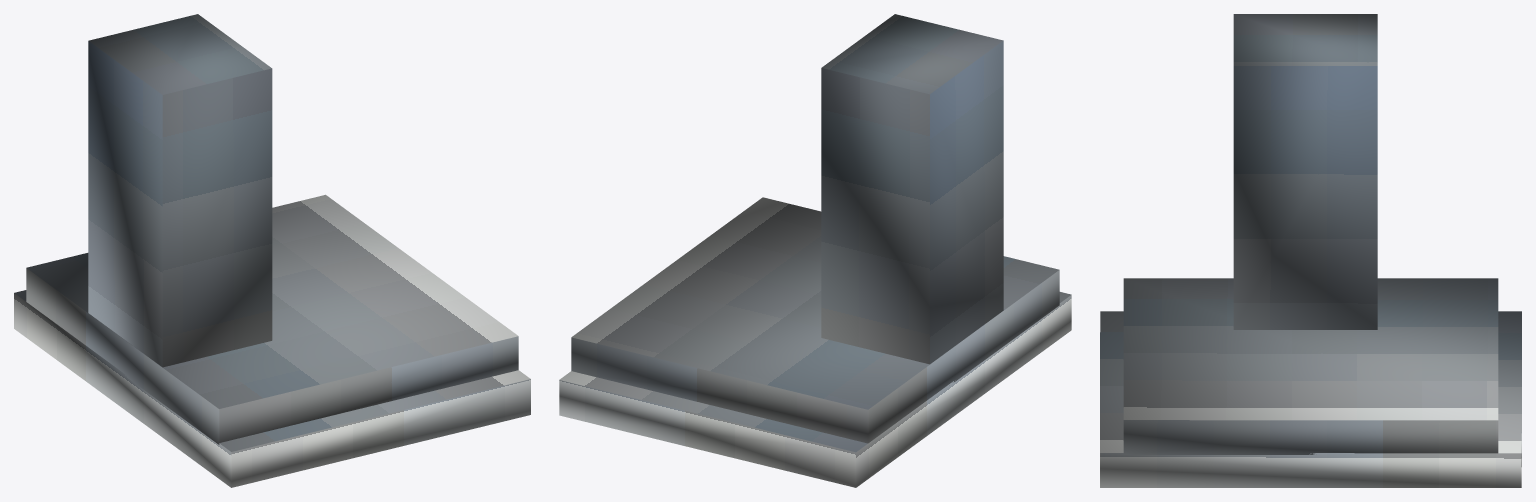
The picture shows the model from 3 angles, left to right: view 1: azimuth 30°, elevation 25°; view 2: azimuth 150°, elevation 25°; view 3: azimuth 270°, elevation 25°; orthographic projection. The views are drawn at different scales.
Parts seen in each view (by area): view 1: Mesh.018_Kueche_Hood; view 2: Mesh.018_Kueche_Hood; view 3: Mesh.018_Kueche_Hood.
Boxes of the visible parts, x1,y1,x2,y2 form: Mesh.018_Kueche_Hood: (14,14,530,487); Mesh.018_Kueche_Hood: (559,14,1071,487); Mesh.018_Kueche_Hood: (1100,14,1521,487).
Bounding box in the file's own units: 0.5413 × 0.5913 × 0.6805.
Materials: 1 (1 with a texture image).
